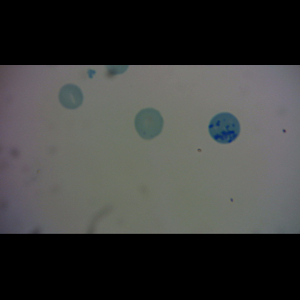aggregate reticulocyte: (207, 111, 242, 145)
erythrocyte: (58, 83, 84, 109)
punctate reticulocyte: (134, 107, 164, 140)
